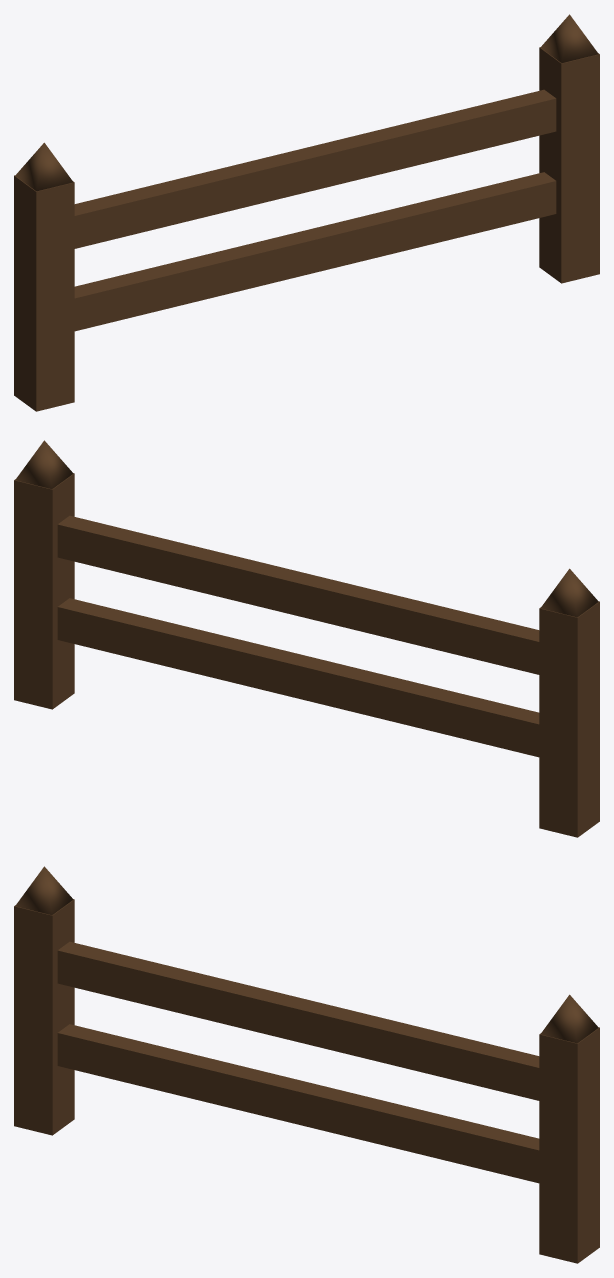
Rendered from fence.glb.
3 views of the same model, one above another, from view 1: azimuth 30°, elevation 25°; view 2: azimuth 150°, elevation 25°; view 3: azimuth 330°, elevation 25° (orthographic).
Parts seen in each view (by area): view 1: fence; view 2: fence; view 3: fence.
Boxes of the visible parts, <box> form: fence: <box>14,14,599,411</box>; fence: <box>14,440,599,837</box>; fence: <box>14,866,599,1263</box>.
Size of the model in its own units: 3.22 by 1.4 by 0.22.
